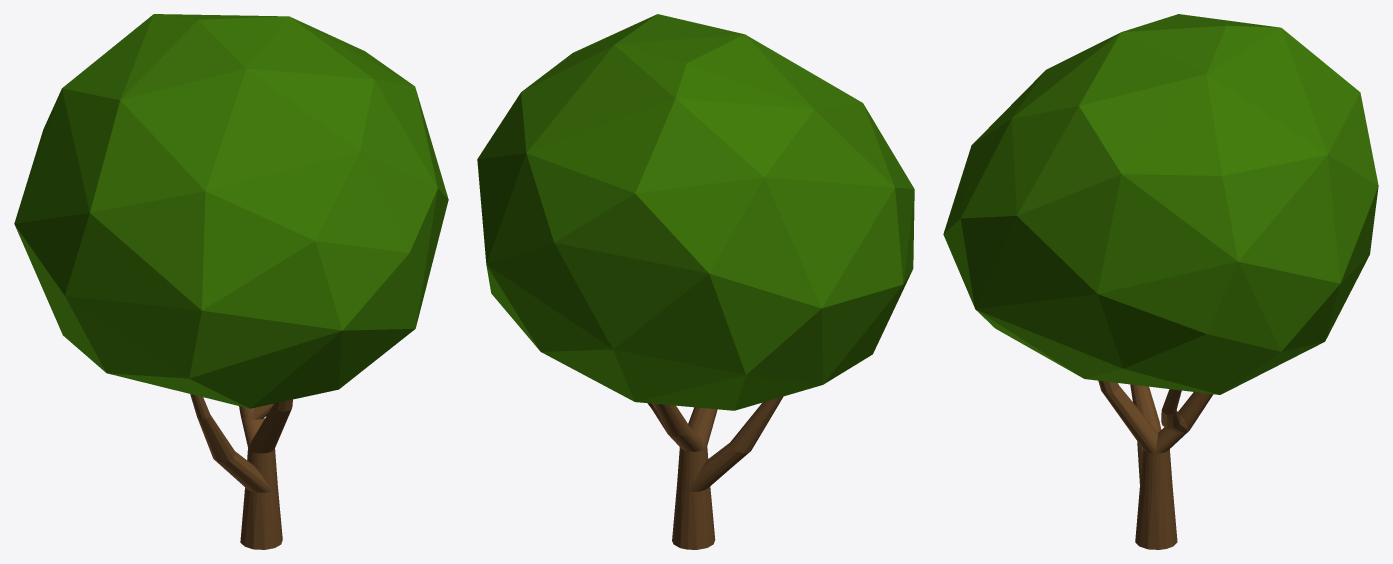
Rendered from Bush1.fbx.
3 views of the same model, side by side, from view 1: azimuth 30°, elevation 25°; view 2: azimuth 150°, elevation 25°; view 3: azimuth 270°, elevation 25° (orthographic).
Visible parts, largest first — view 1: Bush, Trunk; view 2: Bush, Trunk; view 3: Bush, Trunk.
Boxes of the visible parts, x1,y1,x2,y2 form: Bush: (14, 14, 448, 408); Trunk: (190, 394, 292, 549); Bush: (477, 14, 914, 410); Trunk: (647, 396, 783, 549); Bush: (943, 14, 1378, 394); Trunk: (1098, 380, 1213, 549).
Size of the model in its own units: 85.41 by 109 by 86.01.
